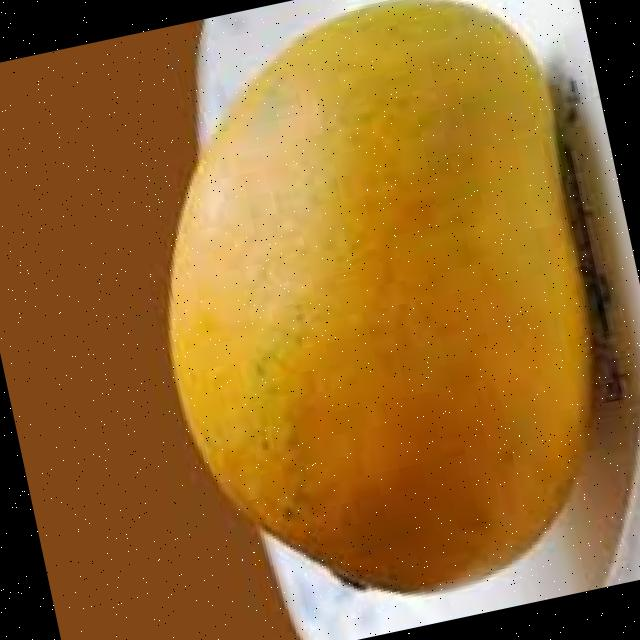mango: (168, 0, 612, 597)
